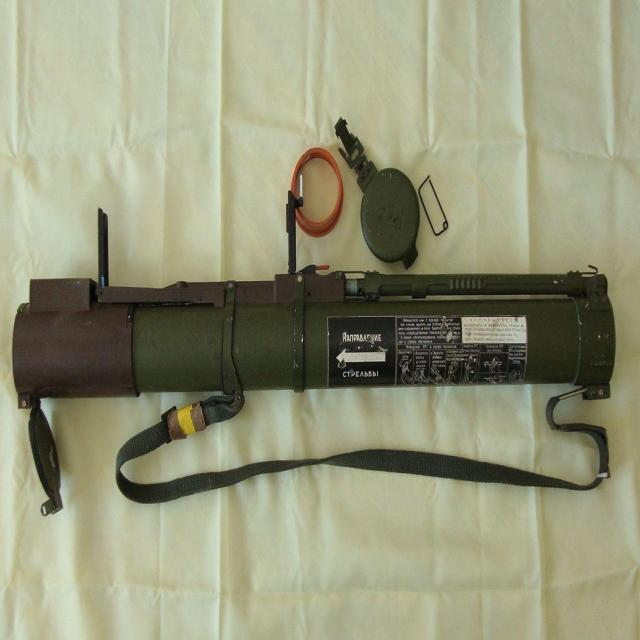bazooka: (11, 184, 640, 540)
